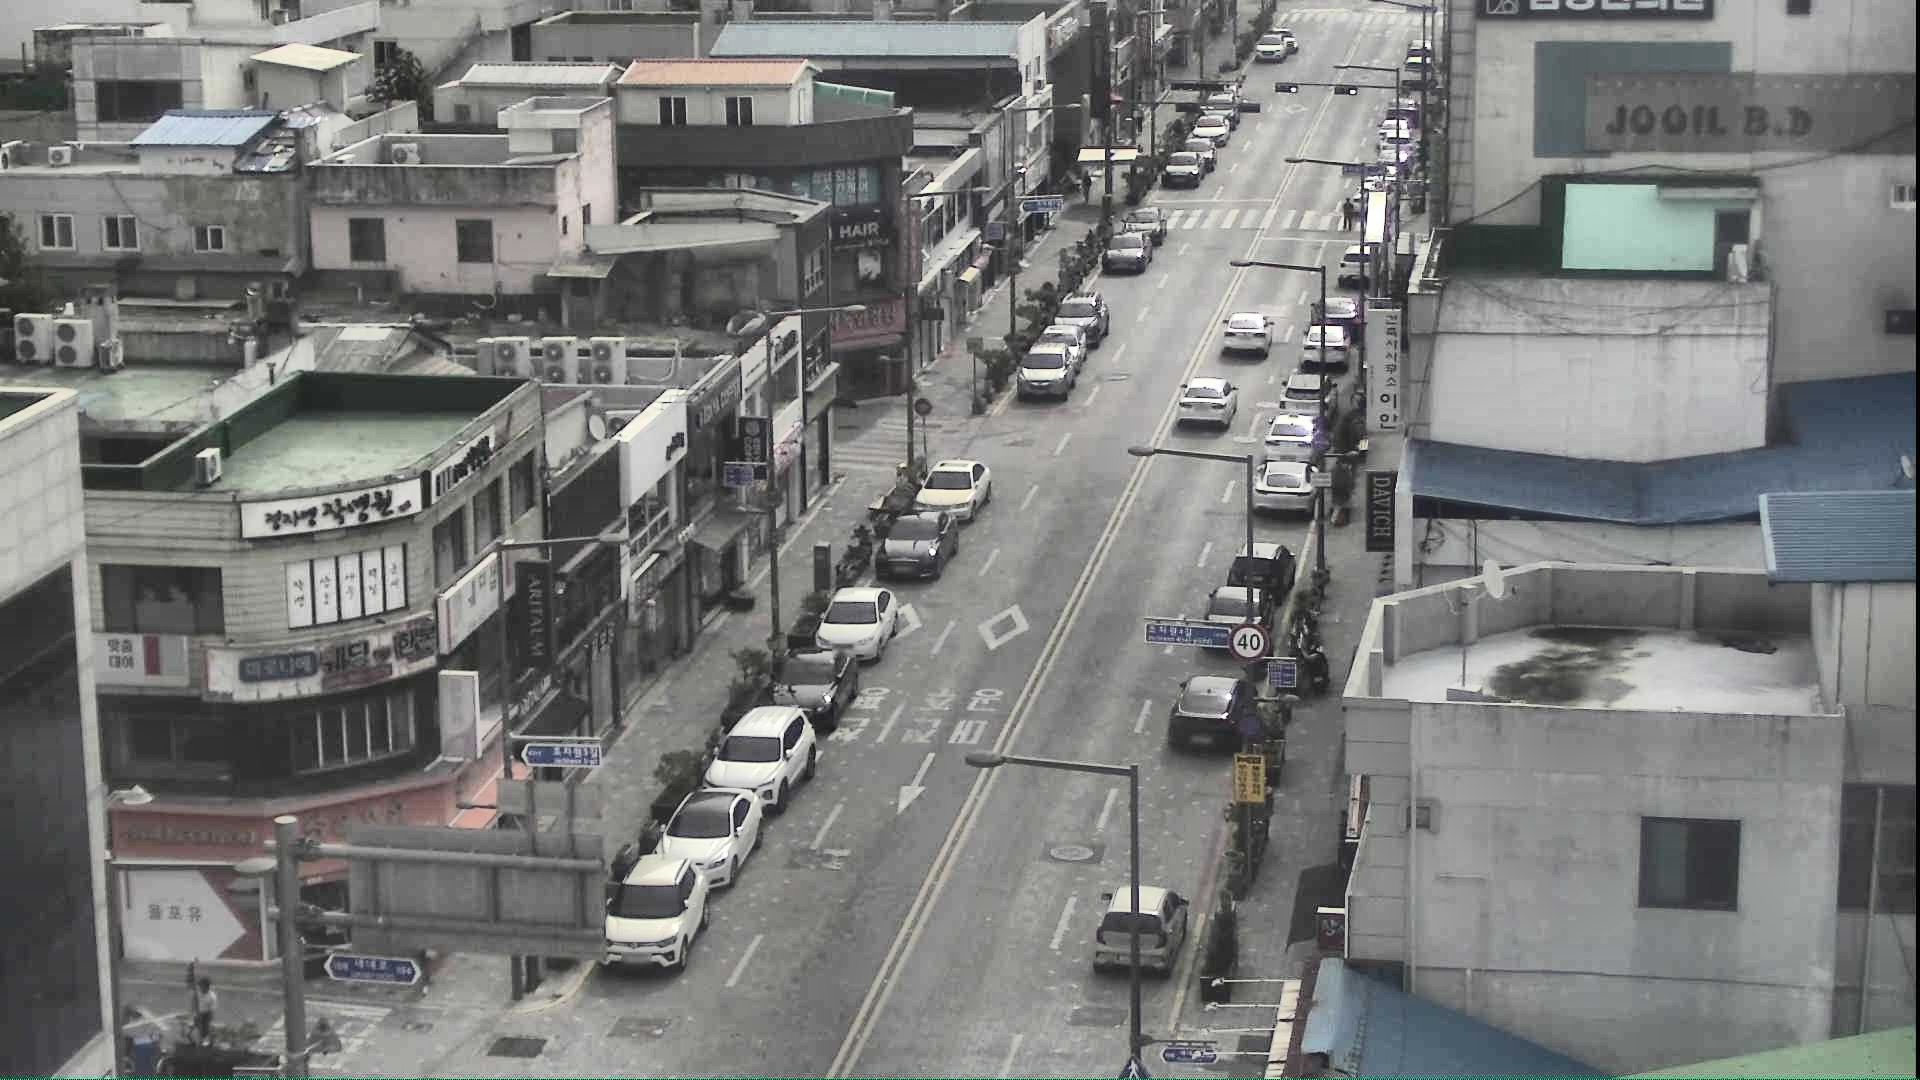crosswalk: (1341, 195, 1356, 229)
jaywalk: (194, 975, 224, 1060)
sidewalk: (1079, 170, 1091, 204)
